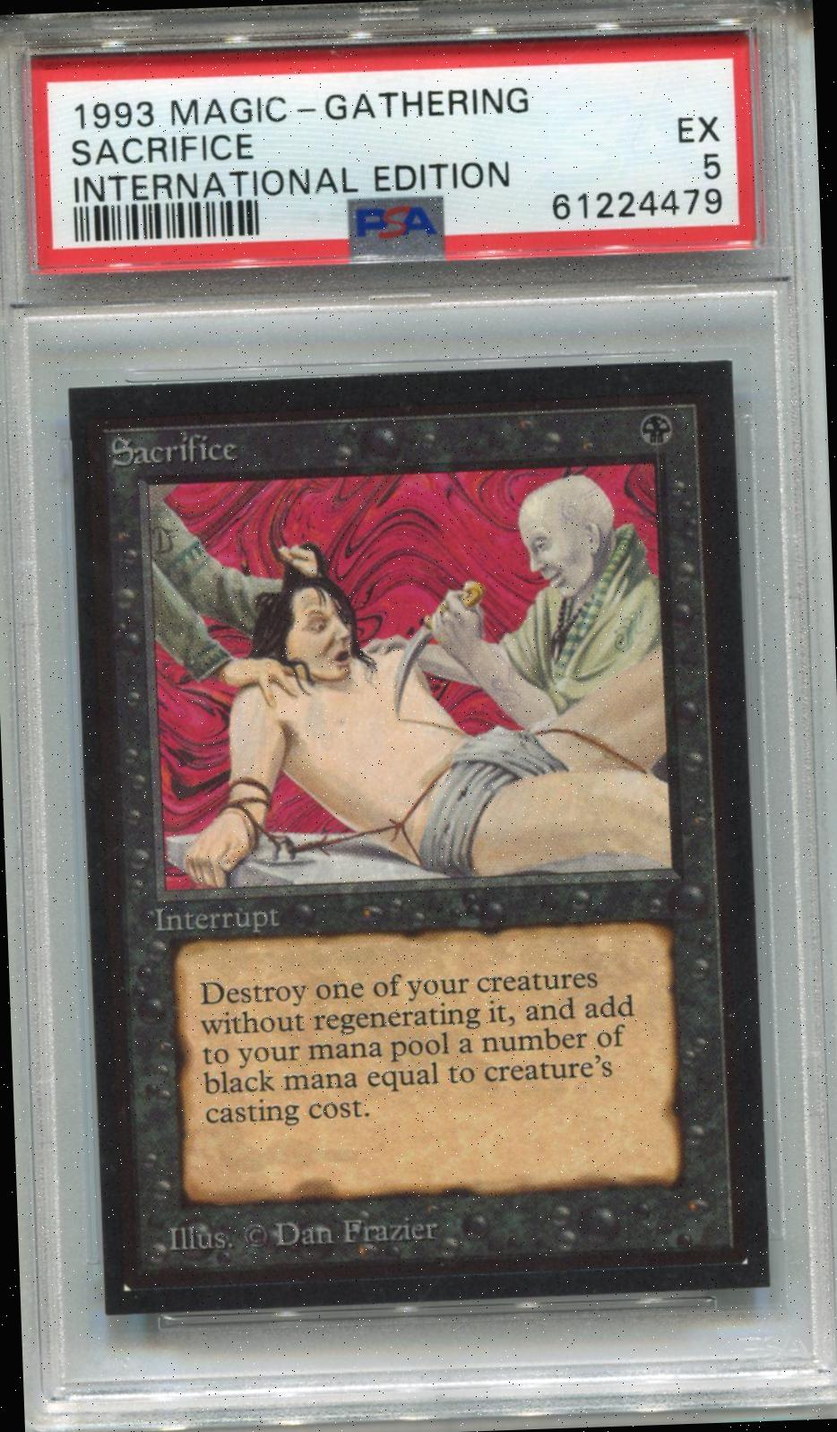card-2UtV: (68, 358, 770, 1314)
